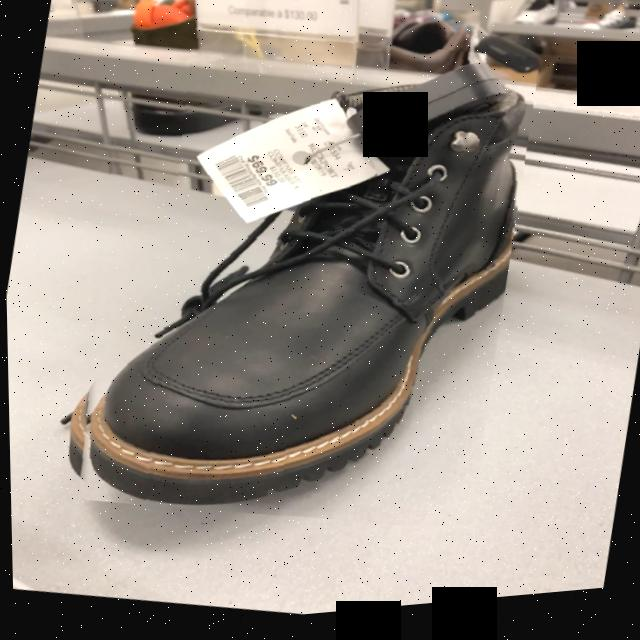shoe: (80, 61, 526, 512)
